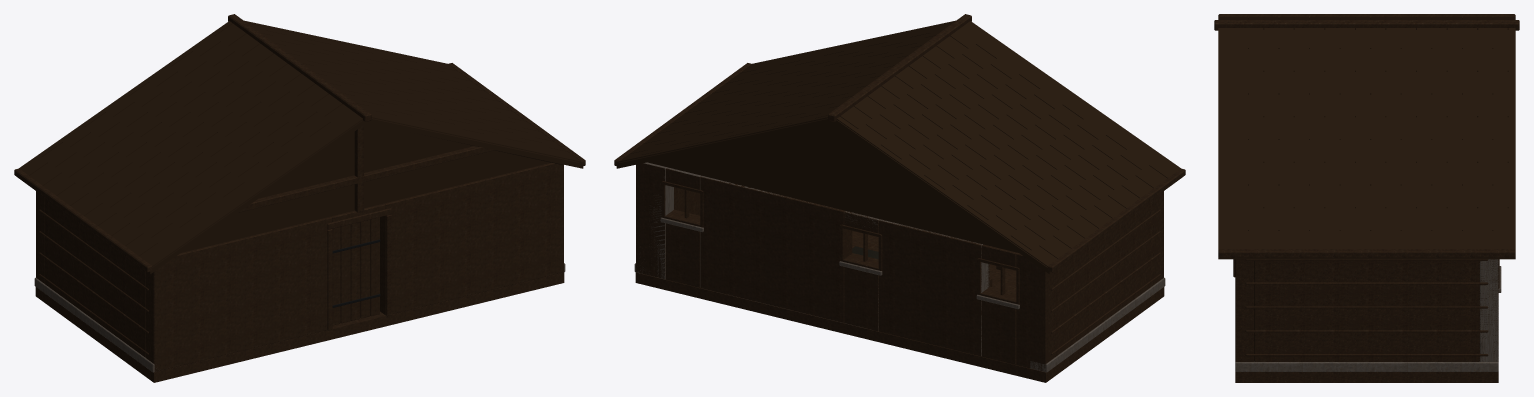
The model's file is s_porters_barracks_10x5.glb.
The picture shows the model from 3 angles, left to right: view 1: azimuth 30°, elevation 25°; view 2: azimuth 150°, elevation 25°; view 3: azimuth 270°, elevation 25°; orthographic projection. The views are drawn at different scales.
Visible parts, largest first — view 1: floor, window ledge, Door plank.003, Door plank.002, Door plank.001, Door plank.004, Door plank; view 2: floor, window ledge, rear pier-colonly.003; view 3: floor, window ledge, rear pier-colonly.003.
Part boxes in pixels (<box>): floor: <box>14,14,585,382</box>; window ledge: <box>34,263,565,372</box>; Door plank.003: <box>360,219,370,318</box>; Door plank.002: <box>350,222,360,320</box>; Door plank.001: <box>340,224,350,323</box>; Door plank.004: <box>370,217,379,315</box>; Door plank: <box>332,227,340,325</box>; floor: <box>614,14,1185,382</box>; window ledge: <box>634,217,1165,372</box>; rear pier-colonly.003: <box>643,162,673,279</box>; floor: <box>1214,14,1519,382</box>; window ledge: <box>1235,266,1501,371</box>; rear pier-colonly.003: <box>1479,259,1498,361</box>.
Size of what is drawn, in the model's own units: 10.7 by 5.24 by 5.8.
Materials: 7 (6 with a texture image).
